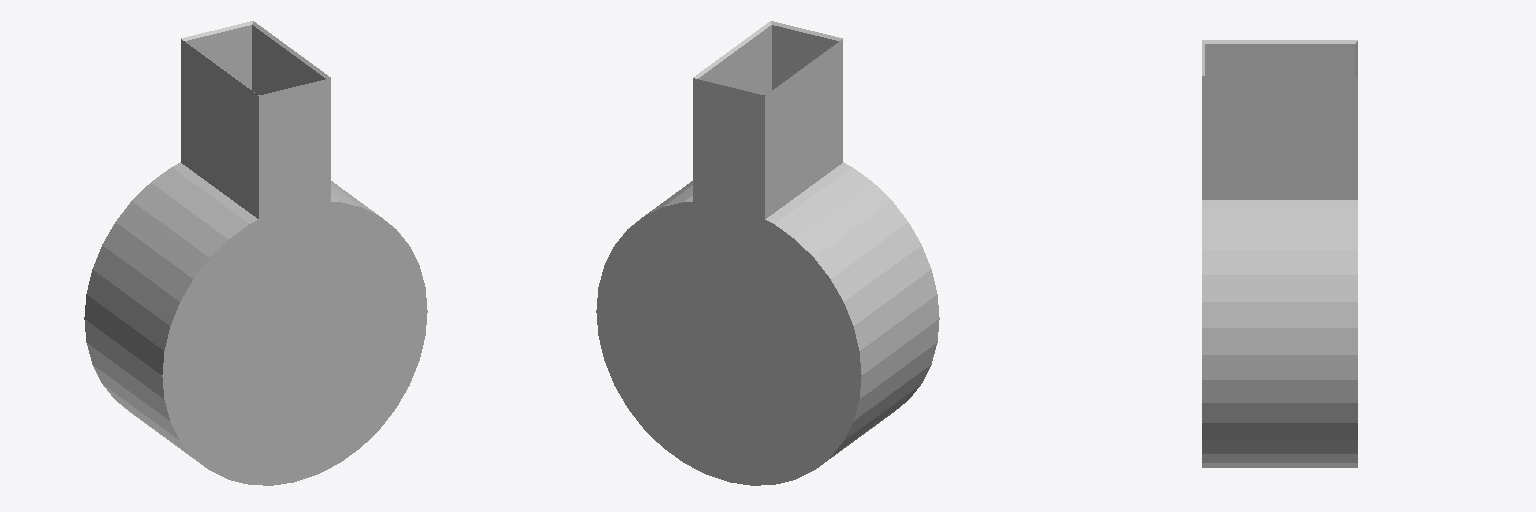
Rendered from Rotator.obj.
3 views of the same model, side by side, from view 1: azimuth 30°, elevation 25°; view 2: azimuth 150°, elevation 25°; view 3: azimuth 270°, elevation 25° (orthographic).
Parts seen in each view (by area): view 1: MainPart, TopPart; view 2: MainPart, TopPart; view 3: MainPart, TopPart.
Part boxes in pixels (bbox=[...]): MainPart: bbox=[84, 162, 427, 485]; TopPart: bbox=[181, 21, 330, 218]; MainPart: bbox=[596, 162, 939, 485]; TopPart: bbox=[693, 21, 842, 218]; MainPart: bbox=[1202, 200, 1357, 467]; TopPart: bbox=[1202, 40, 1357, 199].
Bounding box in the file's own units: 2.04 × 2.91 × 1.04.